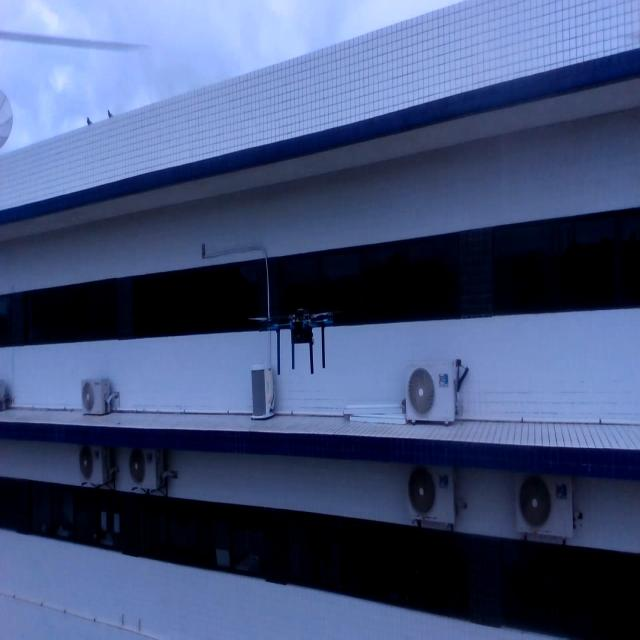-uav-: (235, 285, 357, 385)
